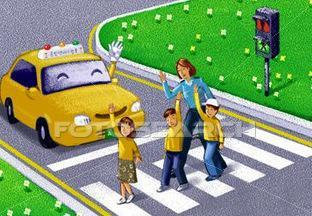car: (1, 42, 148, 148)
person: (157, 56, 228, 180), (105, 105, 146, 207), (156, 89, 192, 192), (193, 85, 226, 182)
